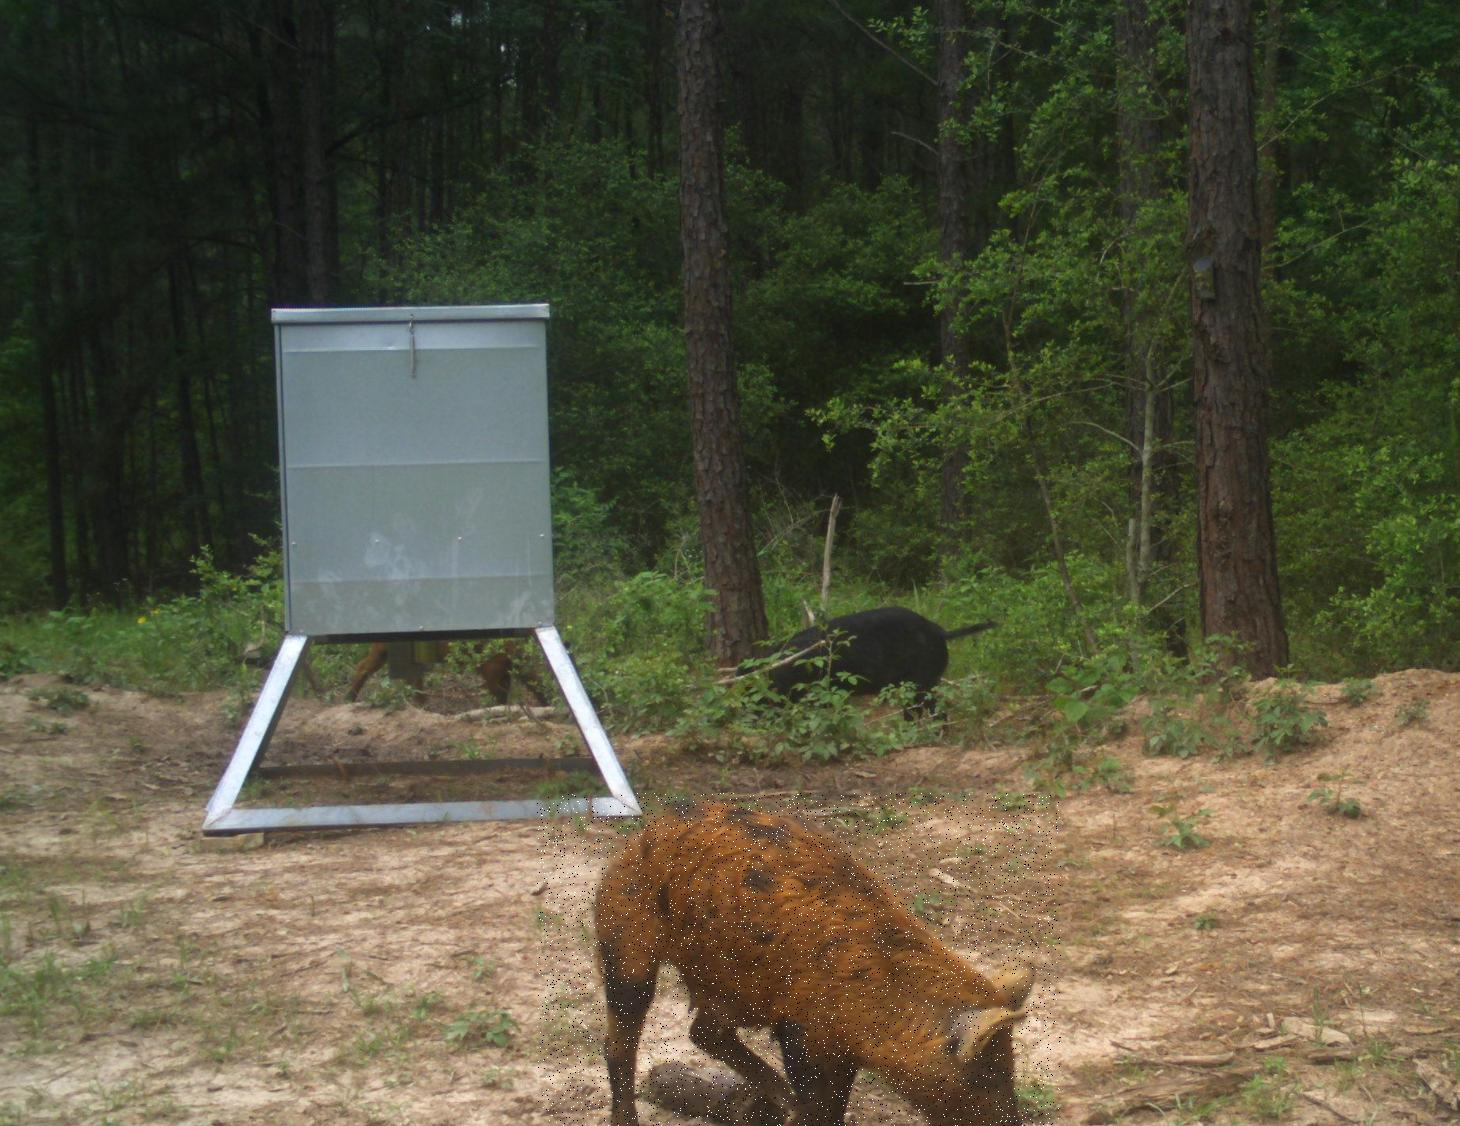Hog: (537, 792, 1060, 1126), (720, 600, 1000, 729)
